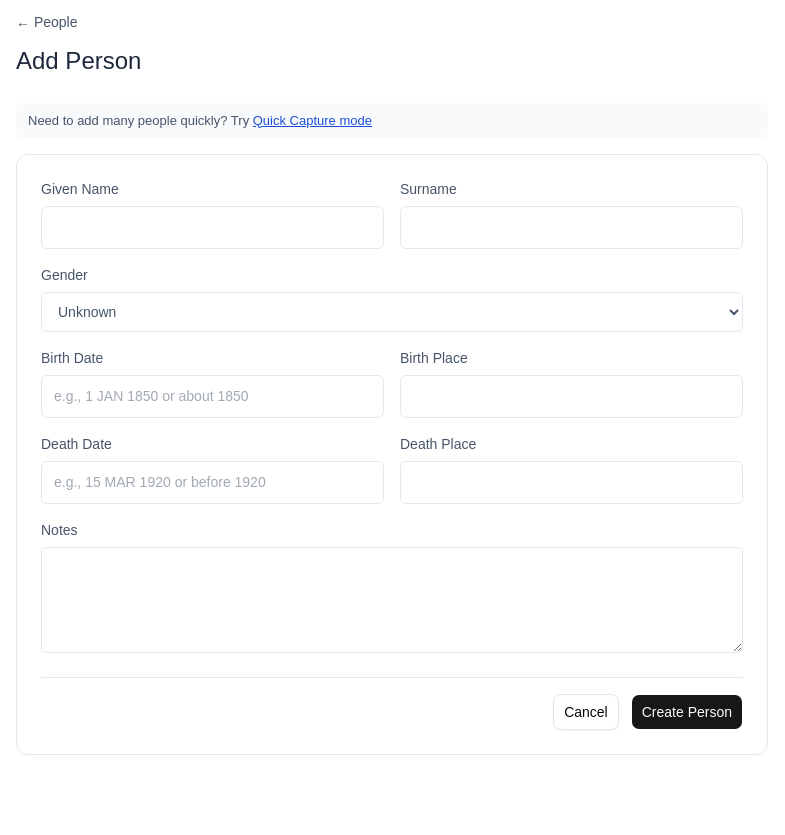
Scenario: Add Person form dates (#996) › offers no Keep as text for a date that reads but does not exist
In the field labelled "Given Name": (212,228) 41,206 -> 384,249, type "Ada"
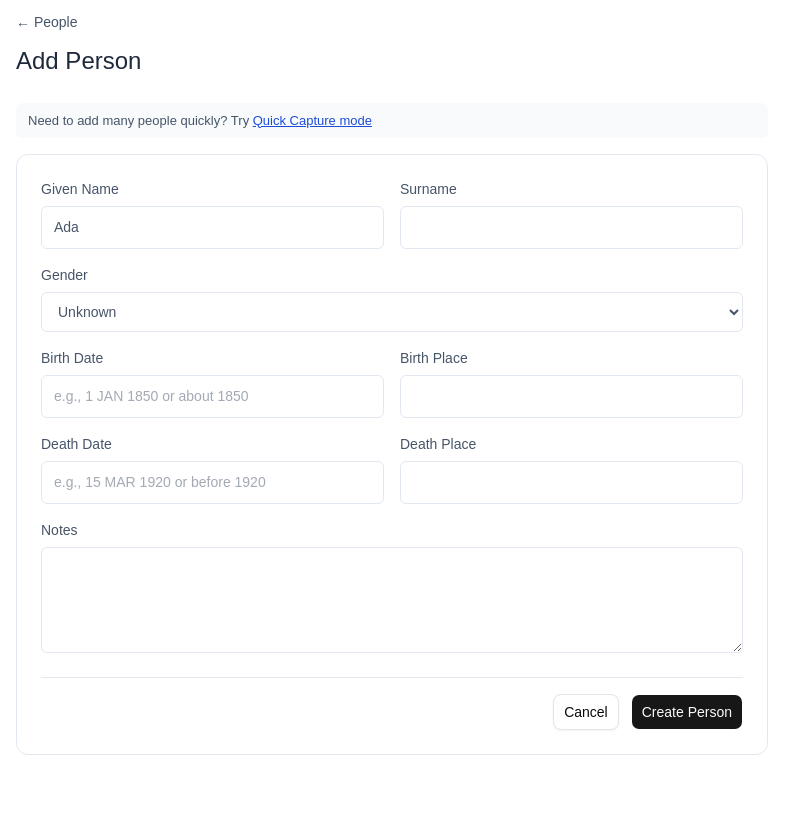
In the field labelled "Birth Date": (212,396) 41,375 -> 384,418, type "31 FEB 1900"
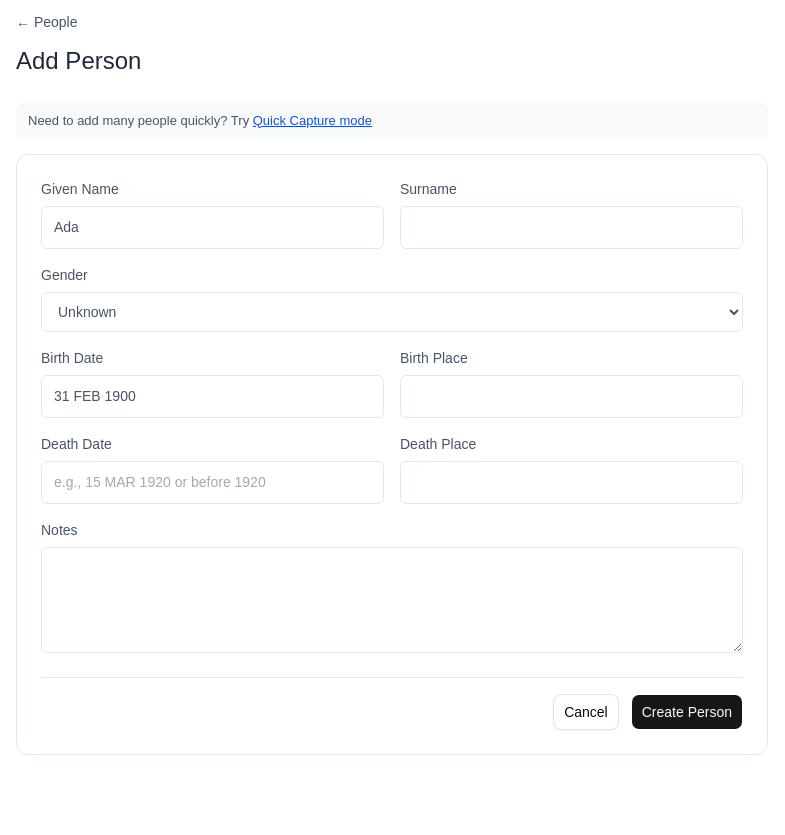
Submit the form labelled "Given Name"
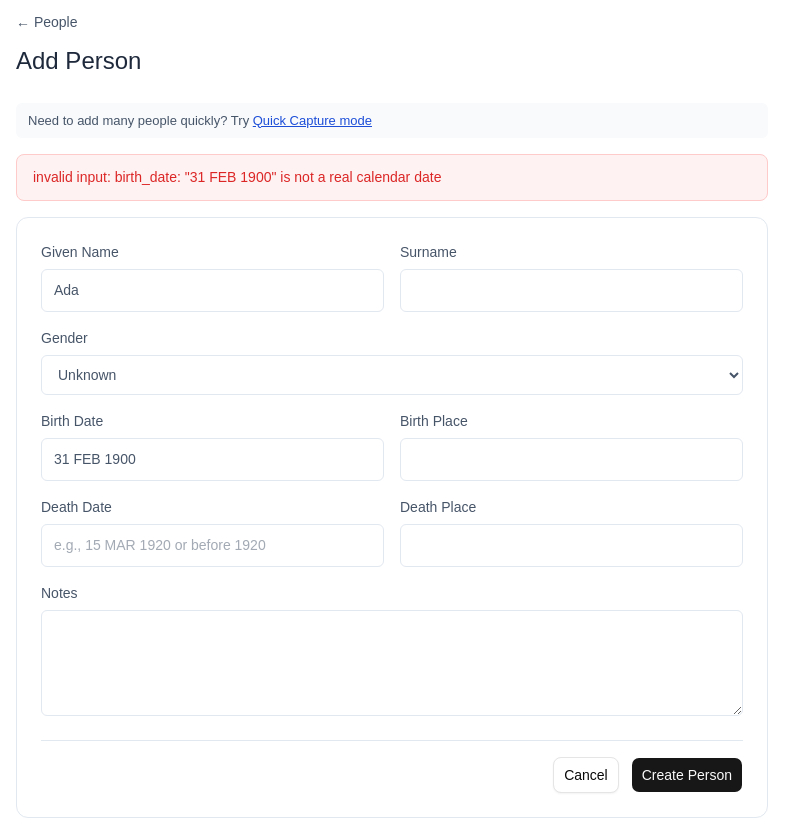
expect the message shows "is not a real calendar date": met, box 33,169 -> 441,185
